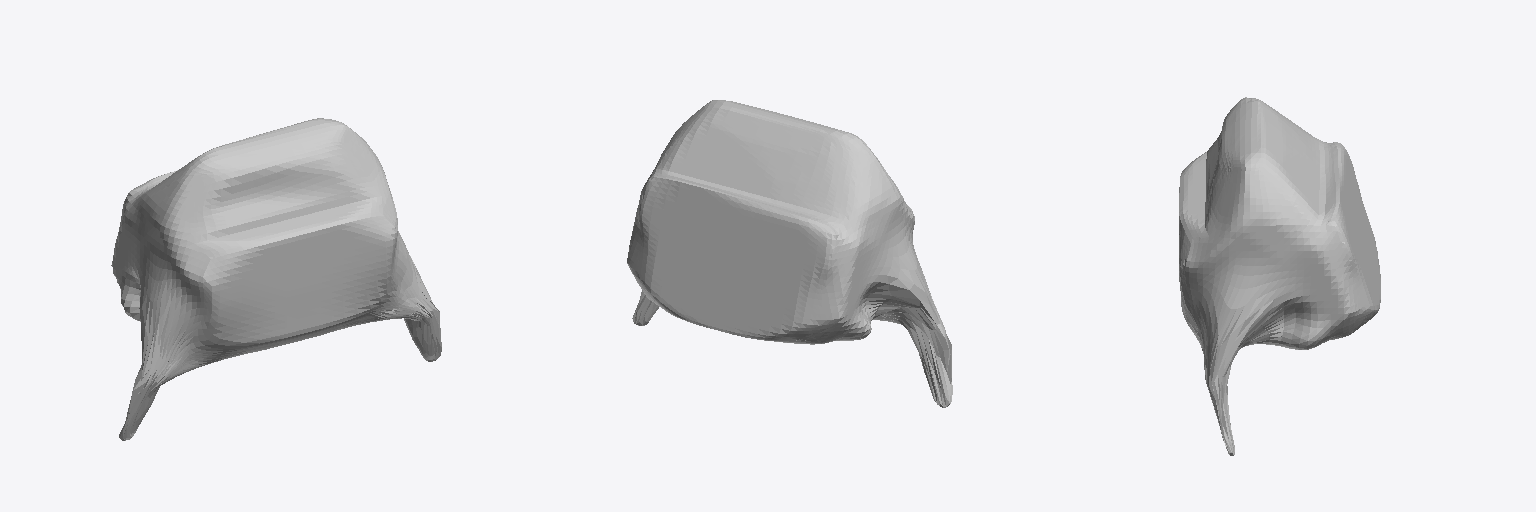
File: vertabrae4.obj
3 renders of one model, left to right at view 1: azimuth 30°, elevation 25°; view 2: azimuth 150°, elevation 25°; view 3: azimuth 270°, elevation 25°, orthographic.
Parts seen in each view (by area): view 1: Cube.052_Cube.013; view 2: Cube.052_Cube.013; view 3: Cube.052_Cube.013.
Part boxes in pixels (x1,y1,x2,y2): Cube.052_Cube.013: (111,118,441,440); Cube.052_Cube.013: (627,100,952,407); Cube.052_Cube.013: (1179,97,1380,455).
Bounding box in the file's own units: 0.1694 × 0.1325 × 0.0929.